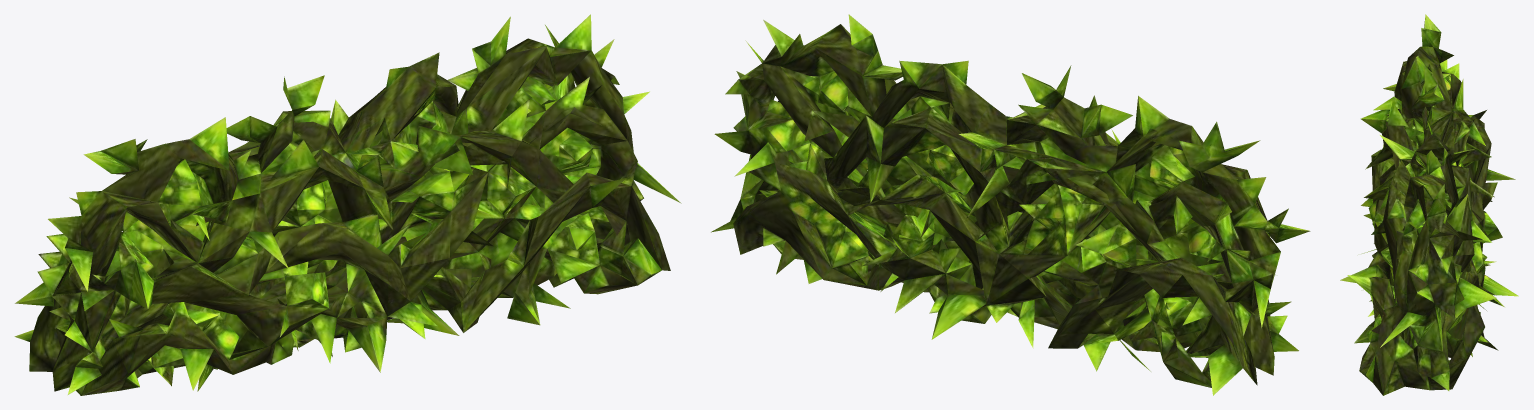
File: hedge-3.glb
3 renders of one model, left to right at view 1: azimuth 30°, elevation 25°; view 2: azimuth 150°, elevation 25°; view 3: azimuth 270°, elevation 25°, orthographic. The views are drawn at different scales.
Size of the model in its own units: 2 by 0.8591 by 0.685.
1 material, 1 textured.
